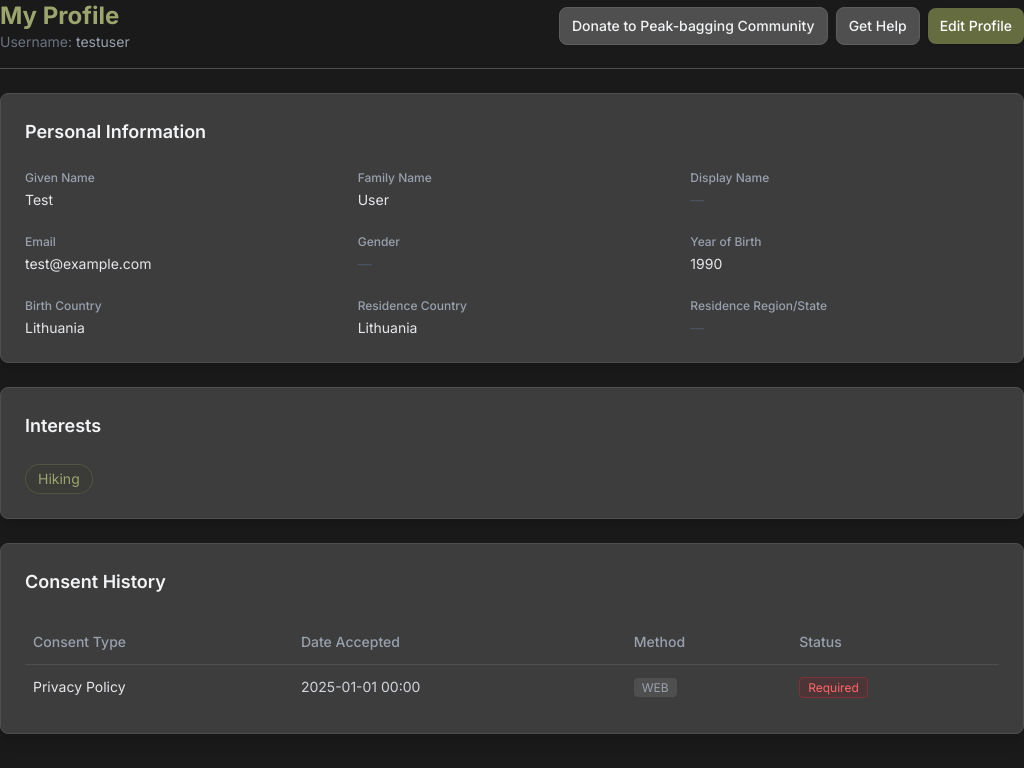
Test: UserOwnProfile Accessibility Audit › Edit Mode › should not have accessibility violations in edit mode
The width and height of the screenshot is (1024, 768).
Click the button "Edit Profile": [976, 26] box [928,8,1023,44]
(page scrolled)
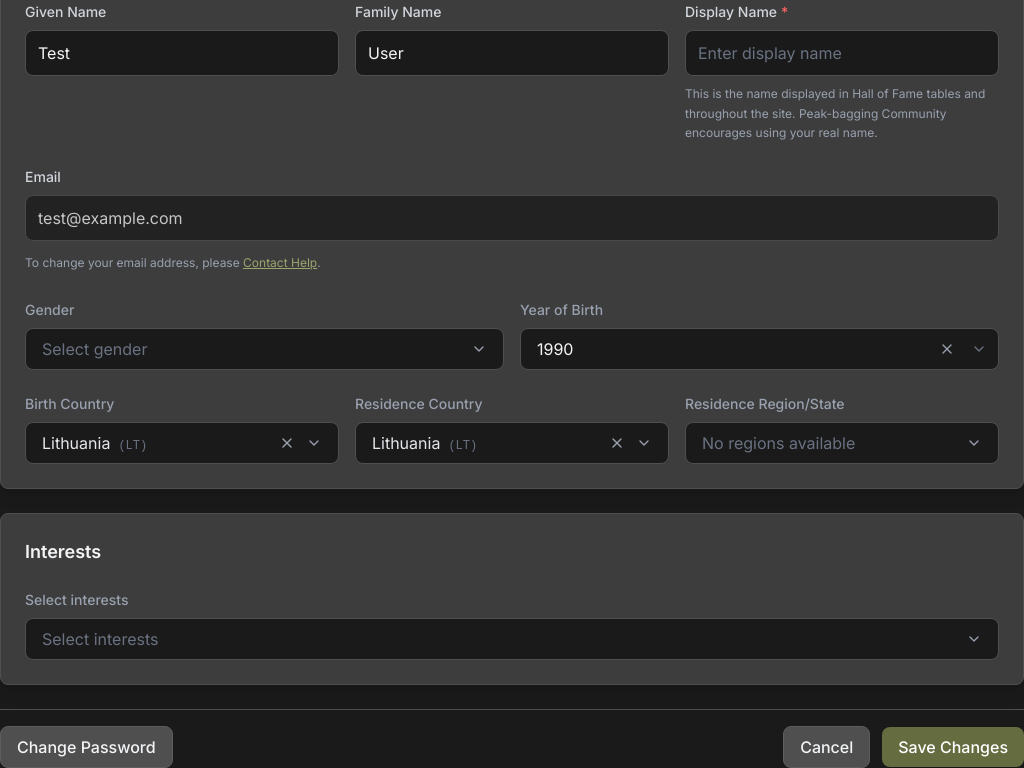
Now the button "Save Changes" is shown, box [882,727,1023,767]
